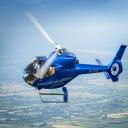helicopter: (22, 12, 128, 105)
